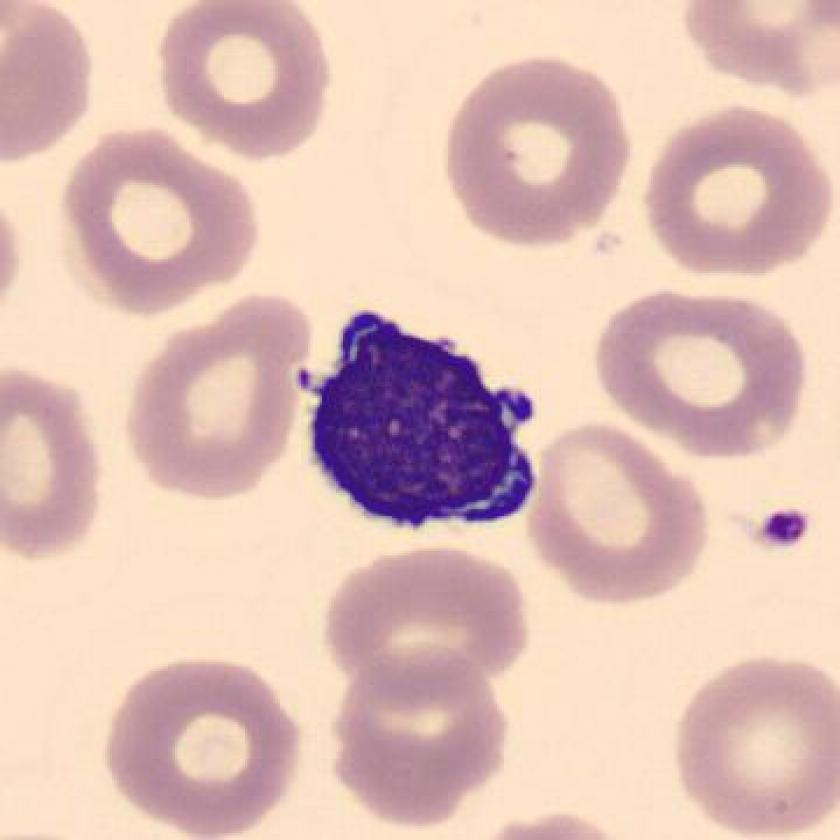lymphocyte: (279, 295, 561, 556)
platelets: (745, 504, 828, 555)
